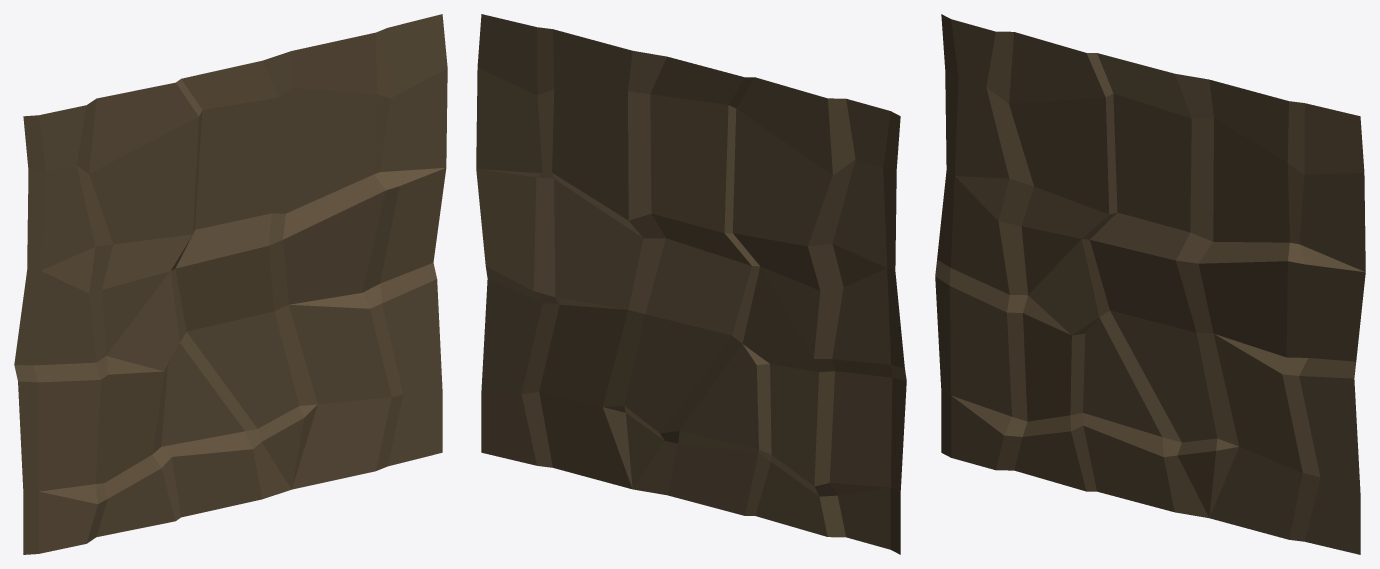
File: tile_WallDirt_Side.fbx
The picture shows the model from 3 angles, left to right: view 1: azimuth 30°, elevation 25°; view 2: azimuth 150°, elevation 25°; view 3: azimuth 330°, elevation 25°; orthographic projection.
Parts seen in each view (by area): view 1: tileMesh.002; view 2: tileMesh.002; view 3: tileMesh.002.
Part boxes in pixels (<box>): tileMesh.002: <box>14,14,447,554</box>; tileMesh.002: <box>476,14,906,554</box>; tileMesh.002: <box>935,14,1365,554</box>.
Bounding box in the file's own units: 257 × 250 × 13.5.
